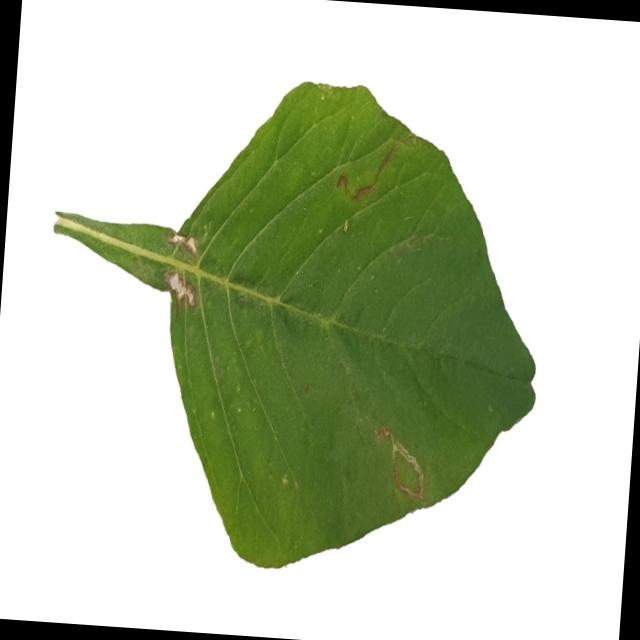Medicinal-Arive Dantu: (31, 61, 555, 588)
